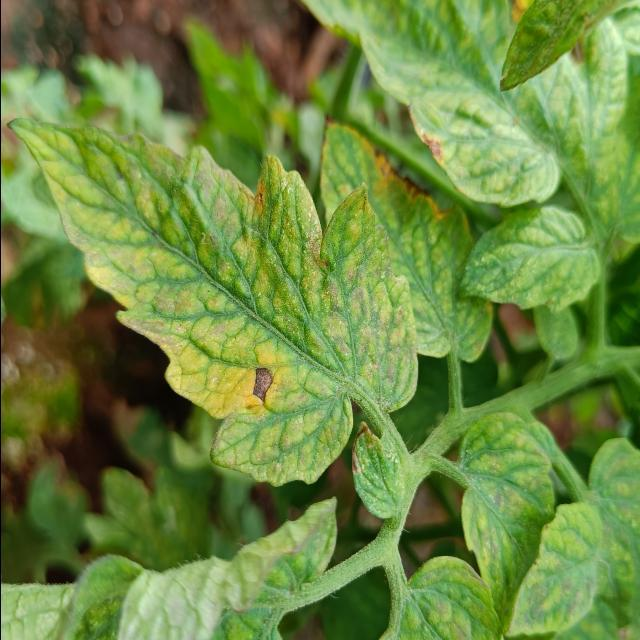Tomato mosaic virus leaf: (0, 120, 419, 488)
